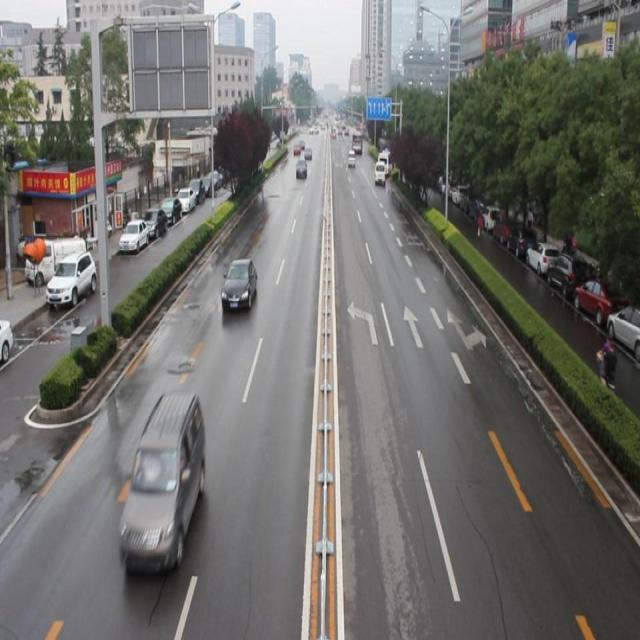car: (220, 256, 258, 312), (295, 158, 307, 180)
truck: (118, 392, 206, 572), (373, 160, 385, 187)
